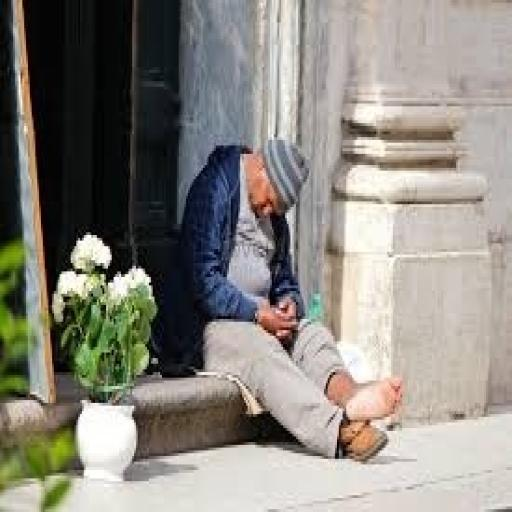sleeping: (169, 132, 406, 464)
